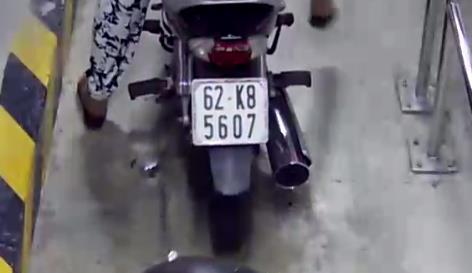lisence: (191, 79, 270, 145)
